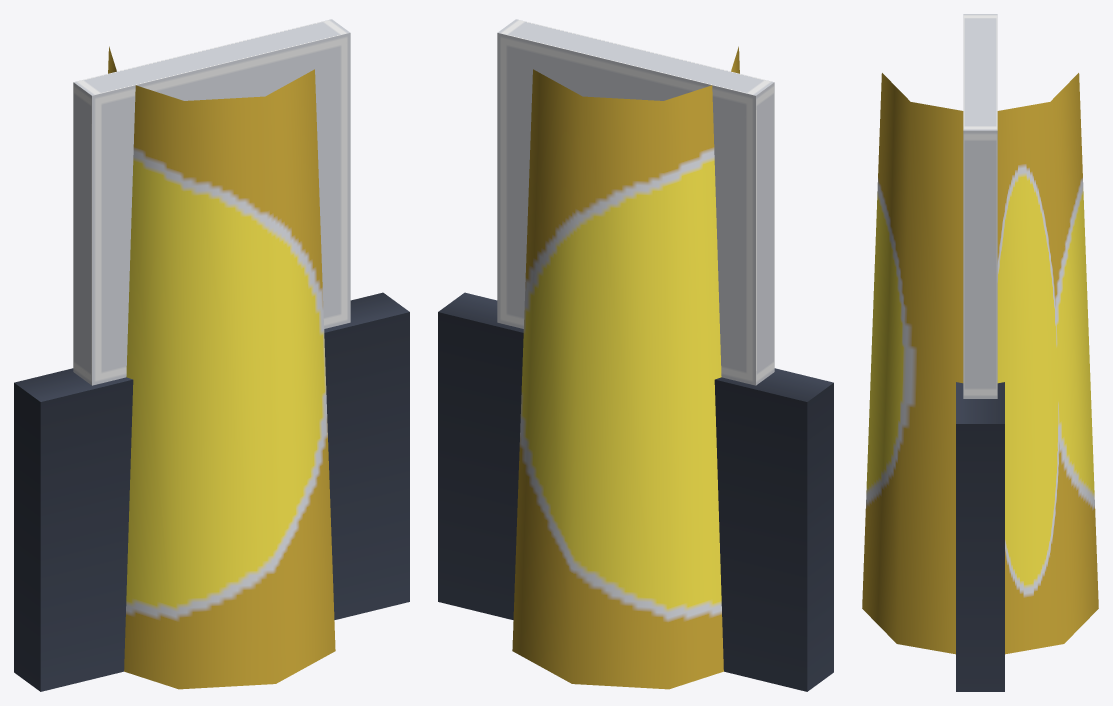
The model's file is KIT_Wall_Cathedral_4.glb.
3 renders of one model, left to right at view 1: azimuth 30°, elevation 25°; view 2: azimuth 150°, elevation 25°; view 3: azimuth 270°, elevation 25°, orthographic. The views are drawn at different scales.
Visible parts, largest first — view 1: KIT_Wall_Cathedral_4; view 2: KIT_Wall_Cathedral_4; view 3: KIT_Wall_Cathedral_4.
Part boxes in pixels (left/top/right/bottom): KIT_Wall_Cathedral_4: left=14, top=19, right=409, bottom=691; KIT_Wall_Cathedral_4: left=438, top=19, right=833, bottom=691; KIT_Wall_Cathedral_4: left=862, top=14, right=1098, bottom=691.
Size of the model in its own units: 4 by 6 by 2.4.
1 material, 1 textured.
